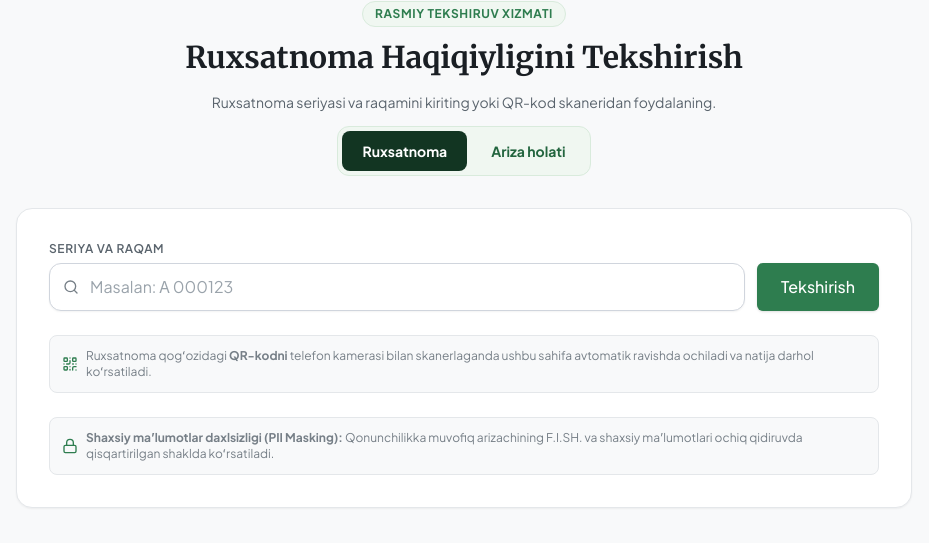
Test: VerifyPage — application arm › shows the generic miss alert for both an unknown number and a mismatched phone
Click the tab "Ariza holati" at {"x": 528, "y": 151}, box [471, 131, 586, 171]
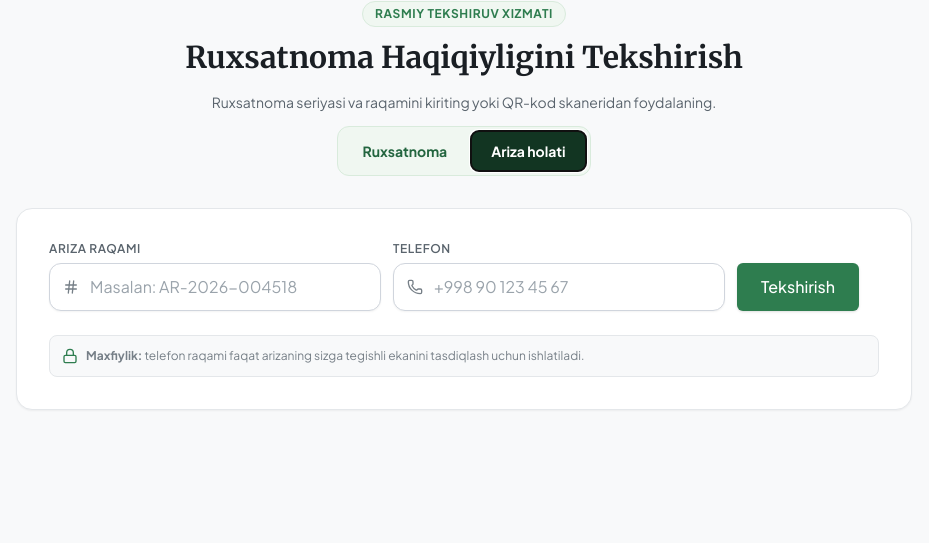
Type "AR-2026-000000" into the field labelled "Ariza raqami" at {"x": 215, "y": 287}, box [49, 263, 381, 311]
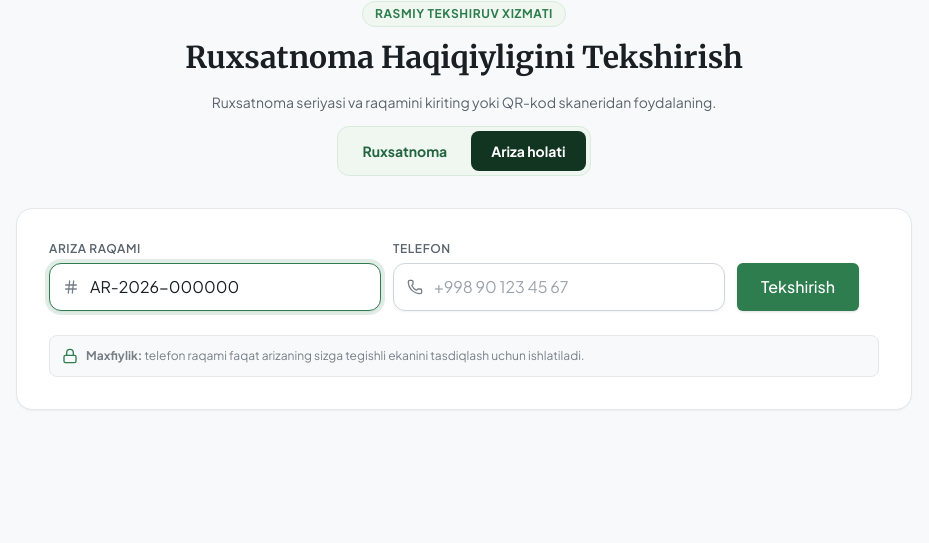
Type "+998900000000" into the field labelled "Telefon" at {"x": 559, "y": 287}, box [393, 263, 725, 311]
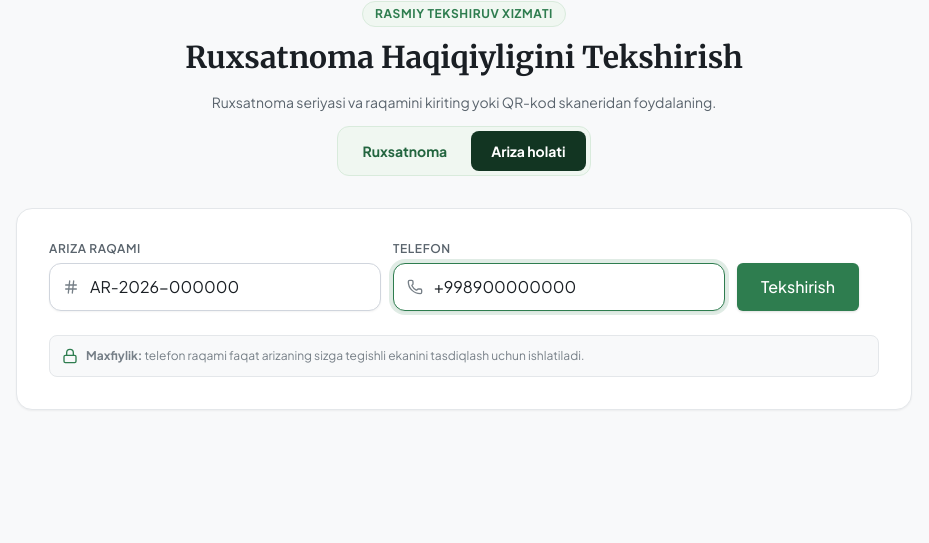
Click the button named "tekshirish" at {"x": 798, "y": 287}, box [737, 263, 859, 311]
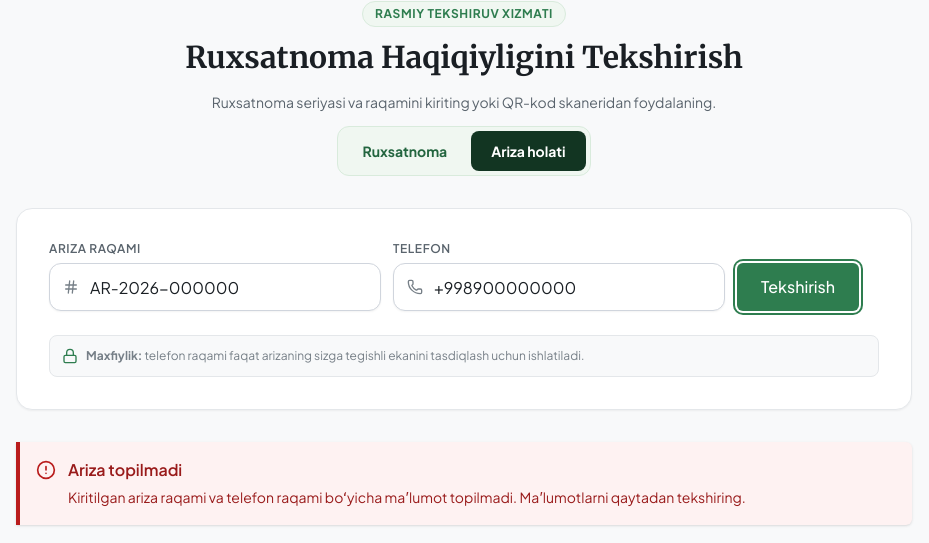
Check: the heading "Ariza topilmadi" is shown, box [68, 459, 182, 480]
